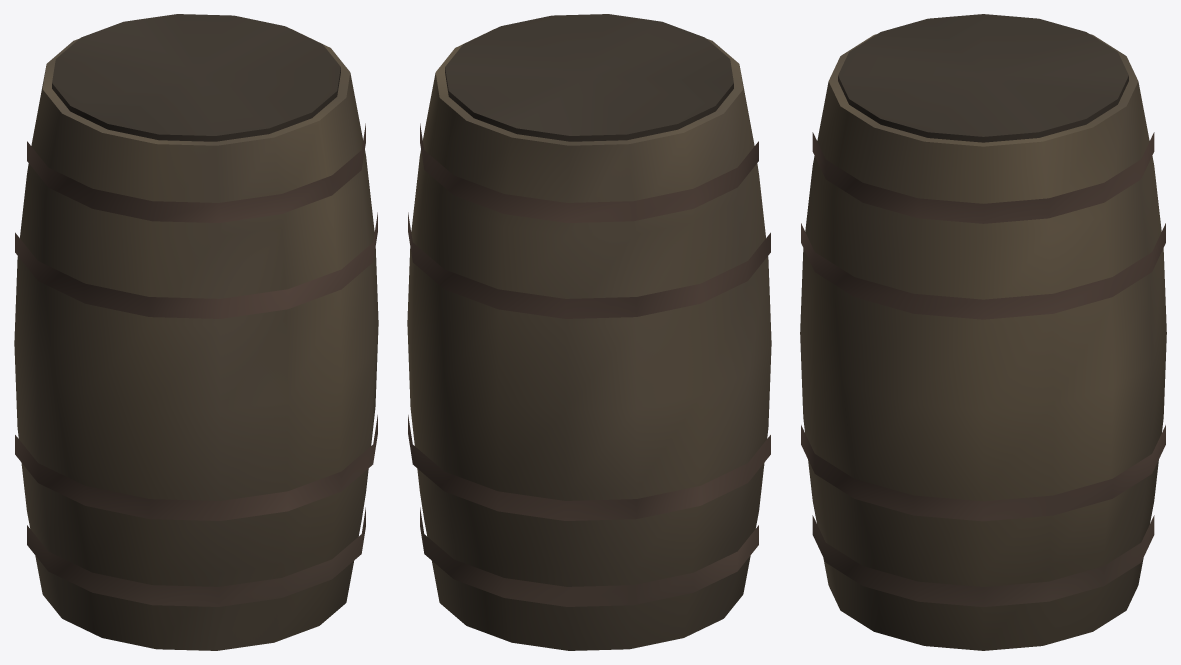
Rendered from m01_prop_barrel_wood_lod0.glb.
3 views of the same model, side by side, from view 1: azimuth 30°, elevation 25°; view 2: azimuth 150°, elevation 25°; view 3: azimuth 270°, elevation 25° (orthographic).
Parts seen in each view (by area): view 1: barrel_wood; view 2: barrel_wood; view 3: barrel_wood.
Part boxes in pixels (x1=…): barrel_wood: x1=14, y1=14, x2=378, y2=650; barrel_wood: x1=407, y1=14, x2=771, y2=650; barrel_wood: x1=800, y1=14, x2=1166, y2=650.
Bounding box in the file's own units: 0.58 × 0.89 × 0.58.
